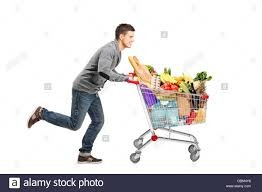with_basket: (125, 68, 209, 162)
without_mask: (117, 24, 135, 49)
